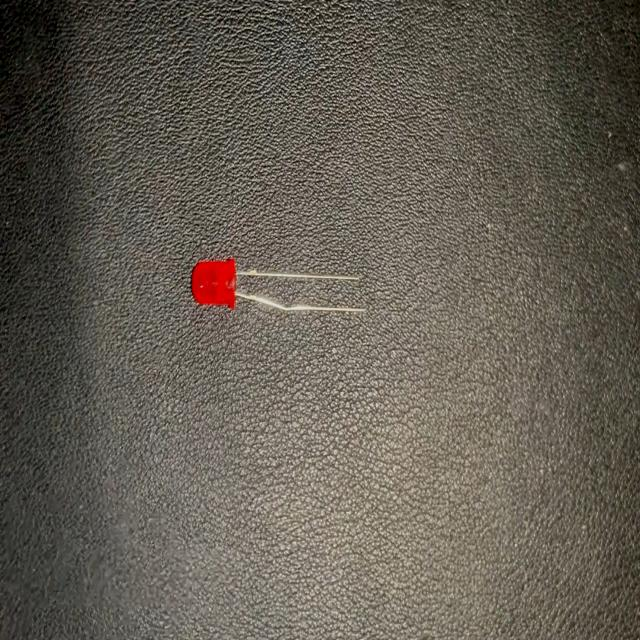LED: (188, 256, 367, 323)
